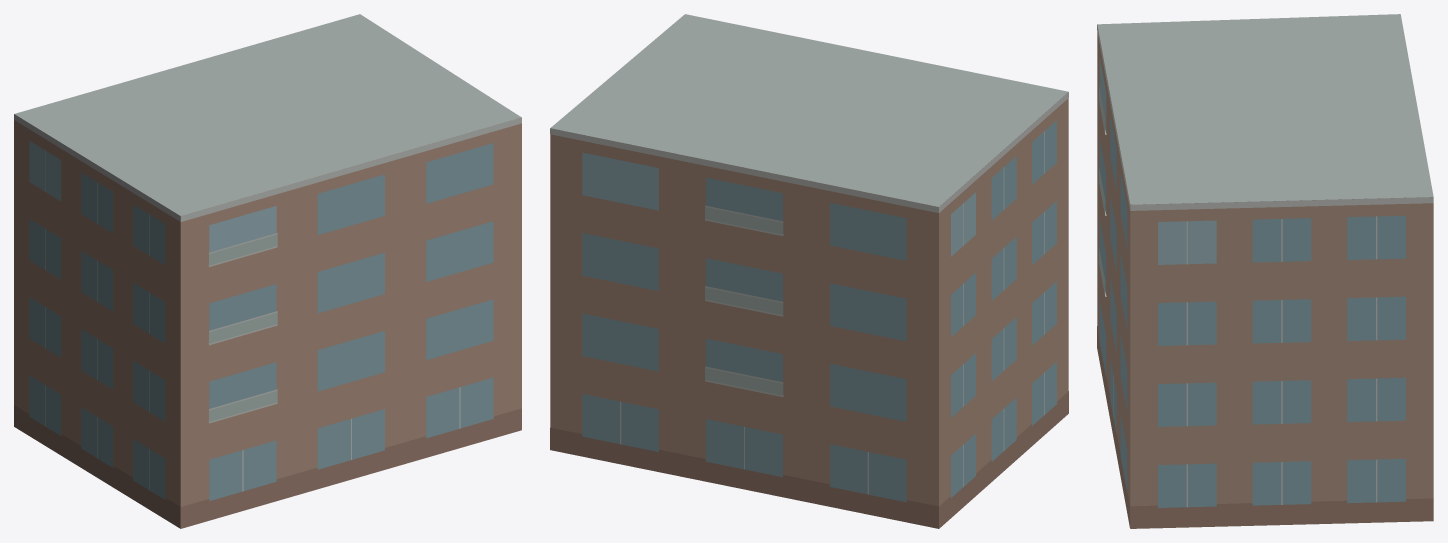
File: survey-upis-32739387.glb
The picture shows the model from 3 angles, left to right: view 1: azimuth 30°, elevation 25°; view 2: azimuth 150°, elevation 25°; view 3: azimuth 270°, elevation 25°; orthographic projection. The views are drawn at different scales.
Visible parts, largest first — view 1: survey-upis-32739387.tmp; view 2: survey-upis-32739387.tmp; view 3: survey-upis-32739387.tmp.
Part boxes in pixels (x1,y1,x2,y2): survey-upis-32739387.tmp: [14, 14, 521, 528]; survey-upis-32739387.tmp: [550, 14, 1068, 528]; survey-upis-32739387.tmp: [1097, 14, 1433, 528].
Size of the model in its own units: 16.17 by 12.8 by 12.05.
